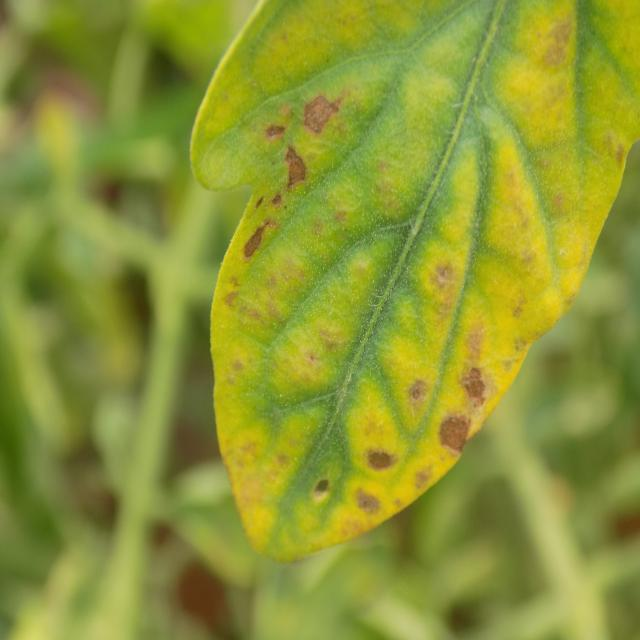tomato_early blight: (194, 0, 640, 562)
